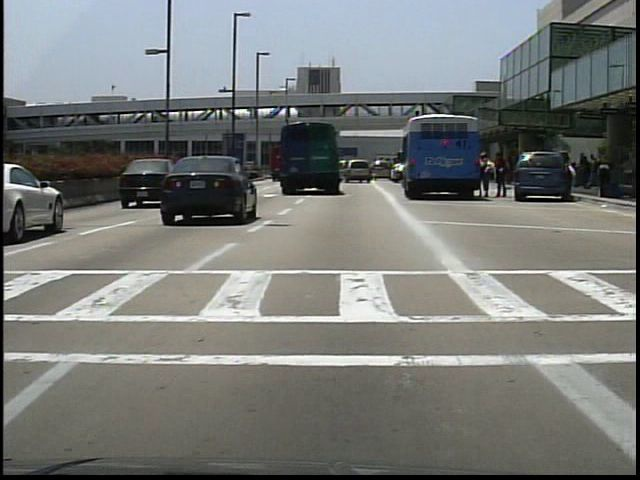person: (495, 155, 510, 200), (478, 153, 493, 197), (565, 161, 578, 201)
